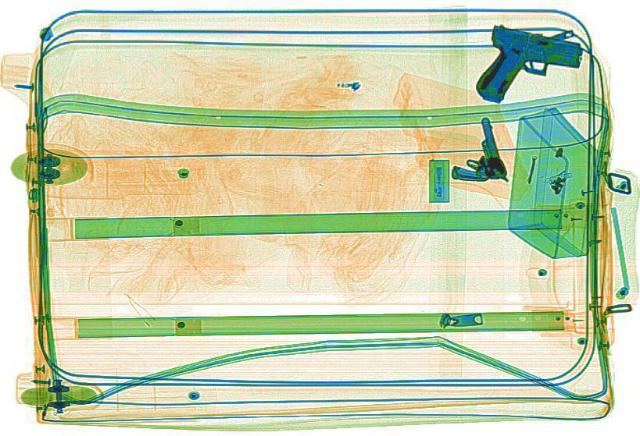Gun: (448, 16, 592, 113), (437, 113, 511, 187)
